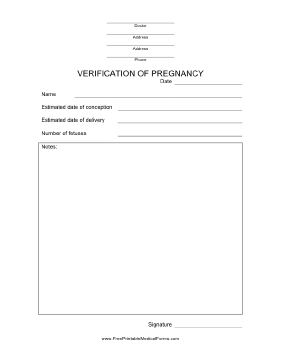textline: (70, 90, 244, 100), (114, 129, 246, 139), (114, 118, 244, 126), (117, 106, 246, 114), (173, 319, 246, 332), (104, 29, 176, 38), (105, 18, 179, 26), (173, 79, 248, 86), (104, 42, 179, 48), (102, 54, 177, 60)
